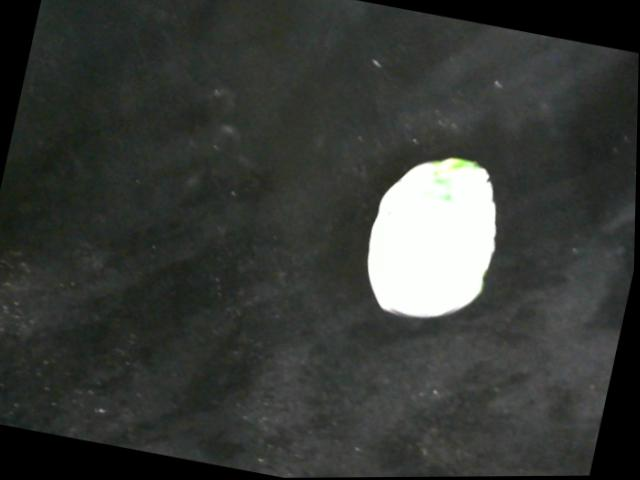can: (364, 152, 502, 328)
